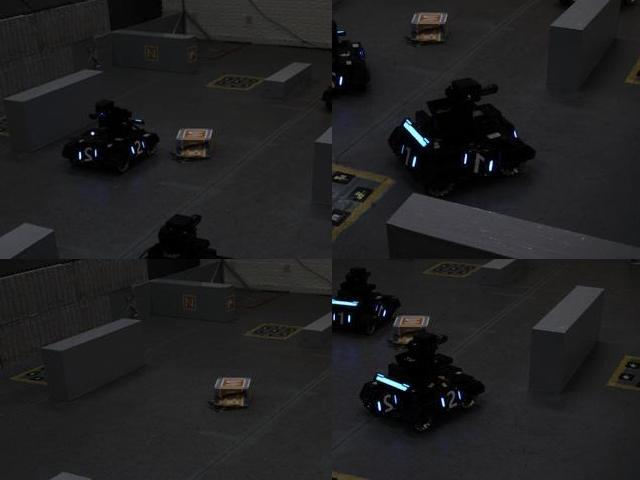armor: (461, 150, 500, 181), (395, 136, 424, 175), (374, 390, 401, 418), (437, 388, 466, 412), (76, 144, 101, 169), (126, 135, 149, 159), (332, 306, 355, 330), (332, 68, 348, 94), (373, 301, 393, 320), (565, 0, 584, 6)
